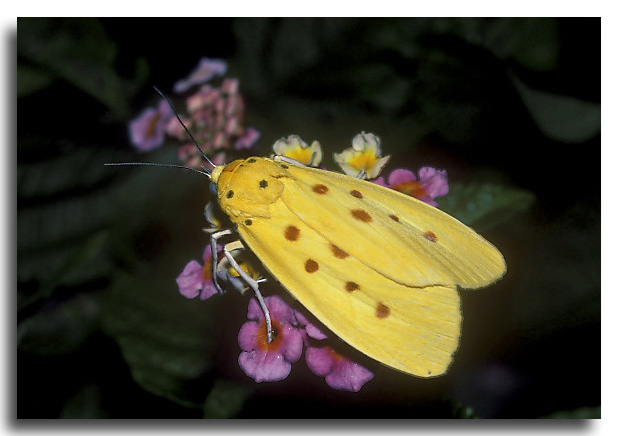Agape chloropyga: (103, 80, 519, 376)
moth: (100, 82, 516, 378)
